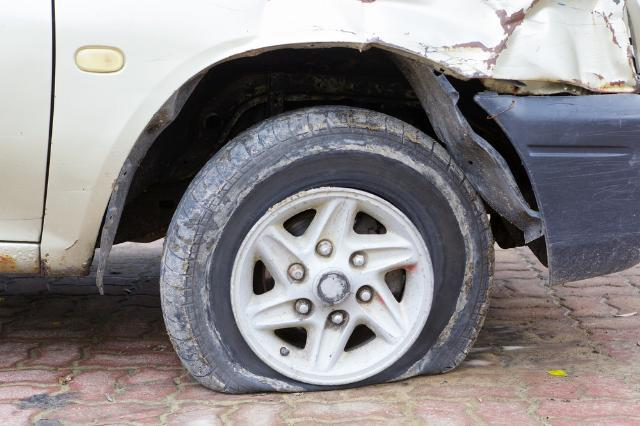dent: (385, 0, 640, 95)
tire flat: (159, 105, 494, 395)
